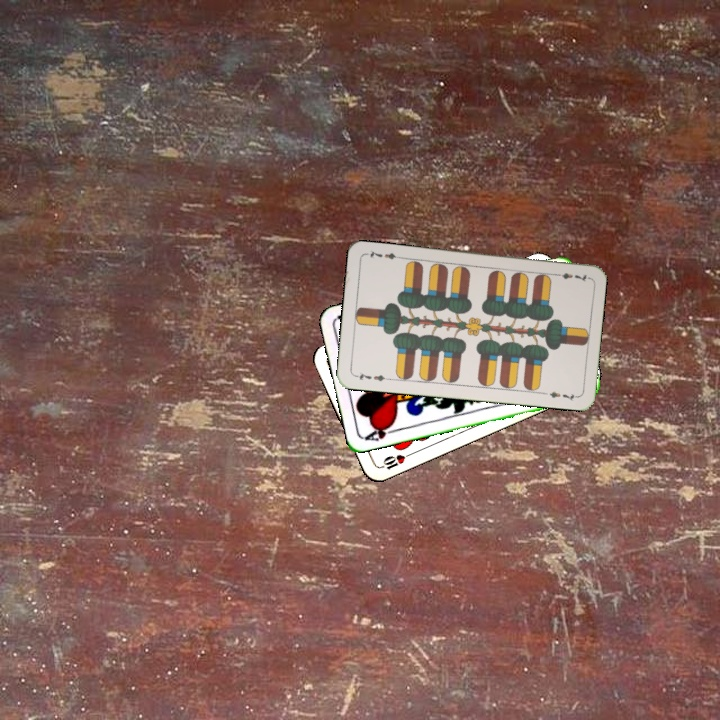E7: (351, 368, 392, 384), (550, 269, 590, 284)
H10: (375, 449, 414, 473)
HA: (361, 419, 401, 444)
